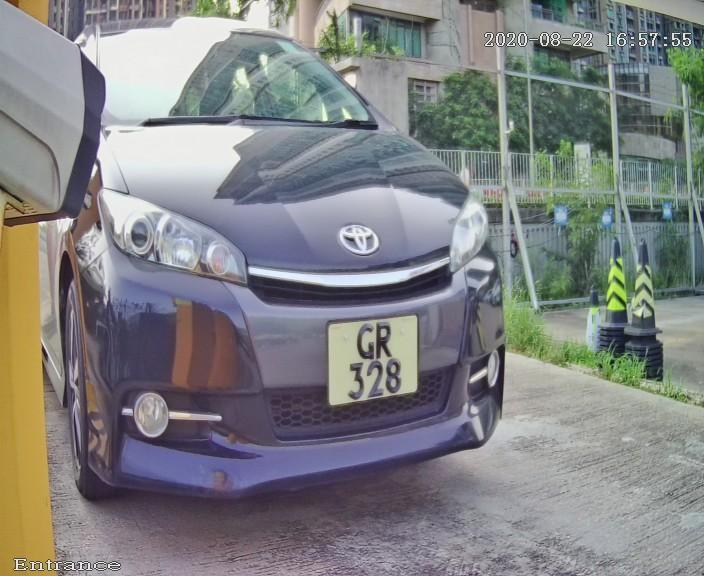Car: (19, 1, 551, 556)
License Plate: (318, 299, 428, 415)
